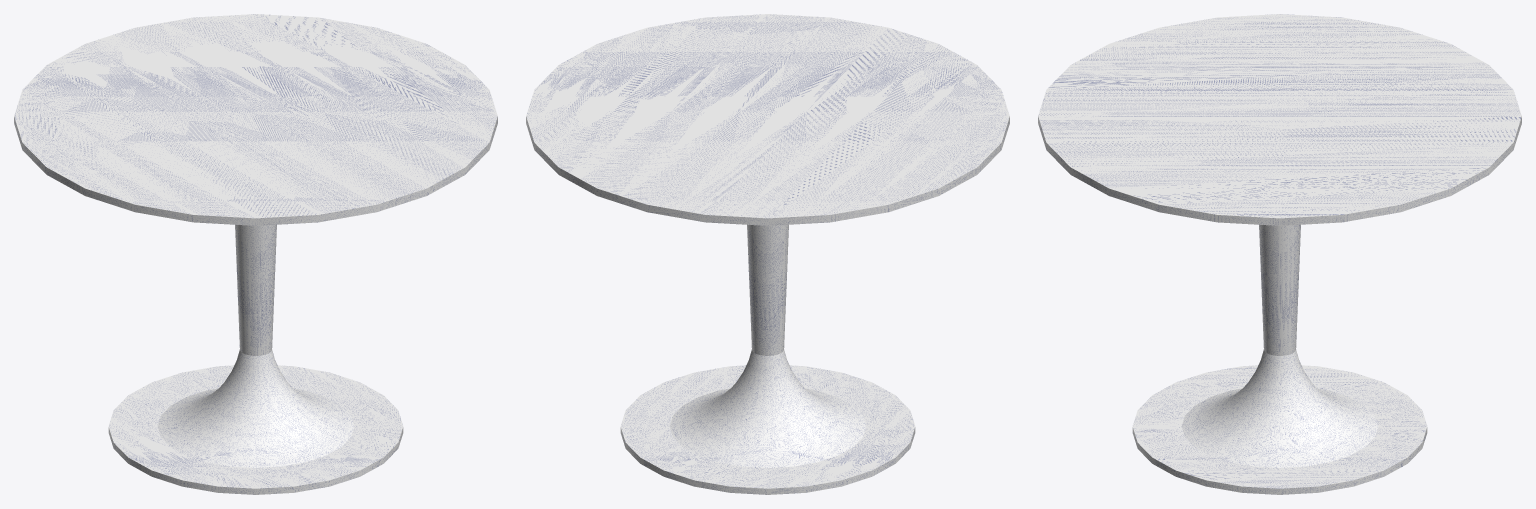
3 views of the same model, side by side, from view 1: azimuth 30°, elevation 25°; view 2: azimuth 150°, elevation 25°; view 3: azimuth 270°, elevation 25° (orthographic).
Parts seen in each view (by area): view 1: ikea_table (×3); view 2: ikea_table (×3); view 3: ikea_table (×3).
Part boxes in pixels (bbox=[...]): ikea_table (×3): bbox=[14, 14, 497, 494]; ikea_table (×3): bbox=[526, 14, 1009, 494]; ikea_table (×3): bbox=[1038, 14, 1521, 494].
Size of the model in its own units: 41.34 by 41.34 by 29.84.
